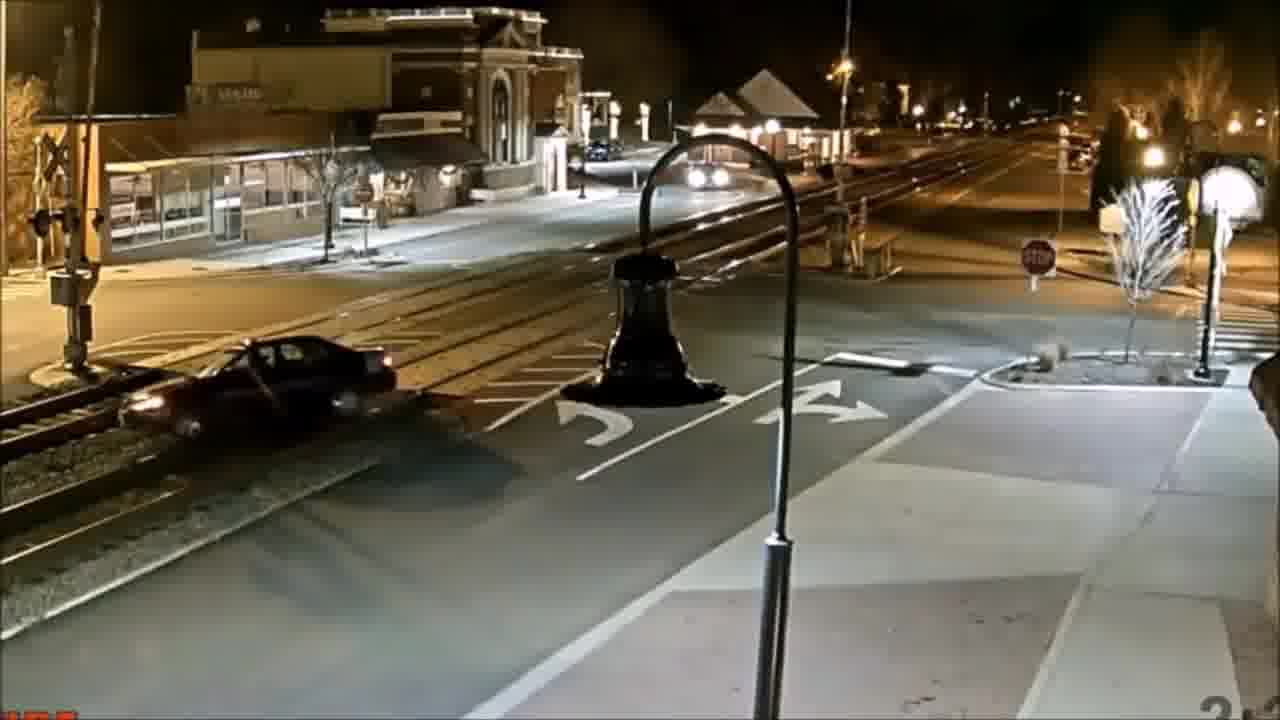crossing railway track: (115, 323, 404, 453)
